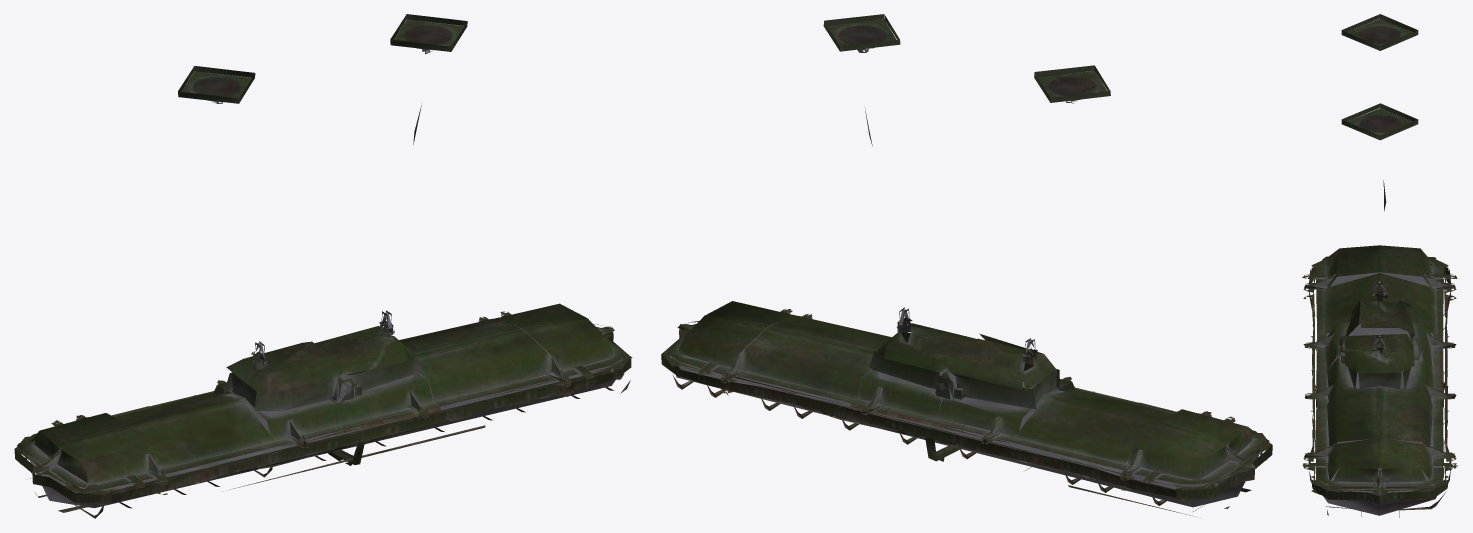
Rendered from ph_caged_hanging_light.glb.
3 views of the same model, side by side, from view 1: azimuth 30°, elevation 25°; view 2: azimuth 150°, elevation 25°; view 3: azimuth 270°, elevation 25° (orthographic). The views are drawn at different scales.
Visible parts, largest first — view 1: caged_hanging_light; view 2: caged_hanging_light; view 3: caged_hanging_light.
Boxes of the visible parts, x1,y1,x2,y2 form: caged_hanging_light: (14,14,632,518); caged_hanging_light: (661,14,1272,517); caged_hanging_light: (1302,14,1457,517).
Bounding box in the file's own units: 1.17 × 0.7501 × 0.3164.
Materials: 1 (1 with a texture image).
